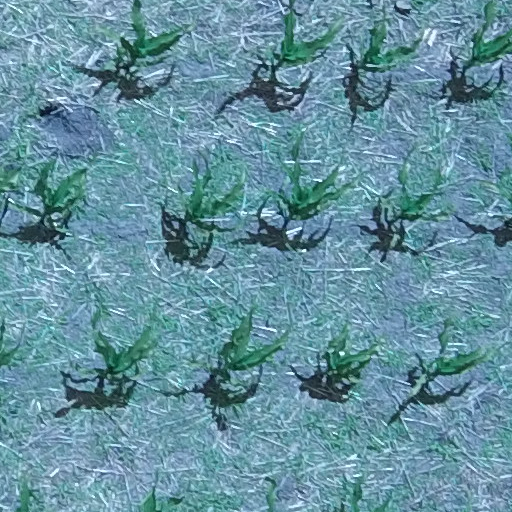planta: (185, 307, 287, 387), (400, 317, 488, 408), (276, 134, 354, 221), (7, 160, 86, 227), (74, 325, 157, 381), (182, 162, 243, 231), (272, 11, 343, 67), (381, 169, 454, 222), (322, 324, 377, 386), (356, 24, 421, 73)
